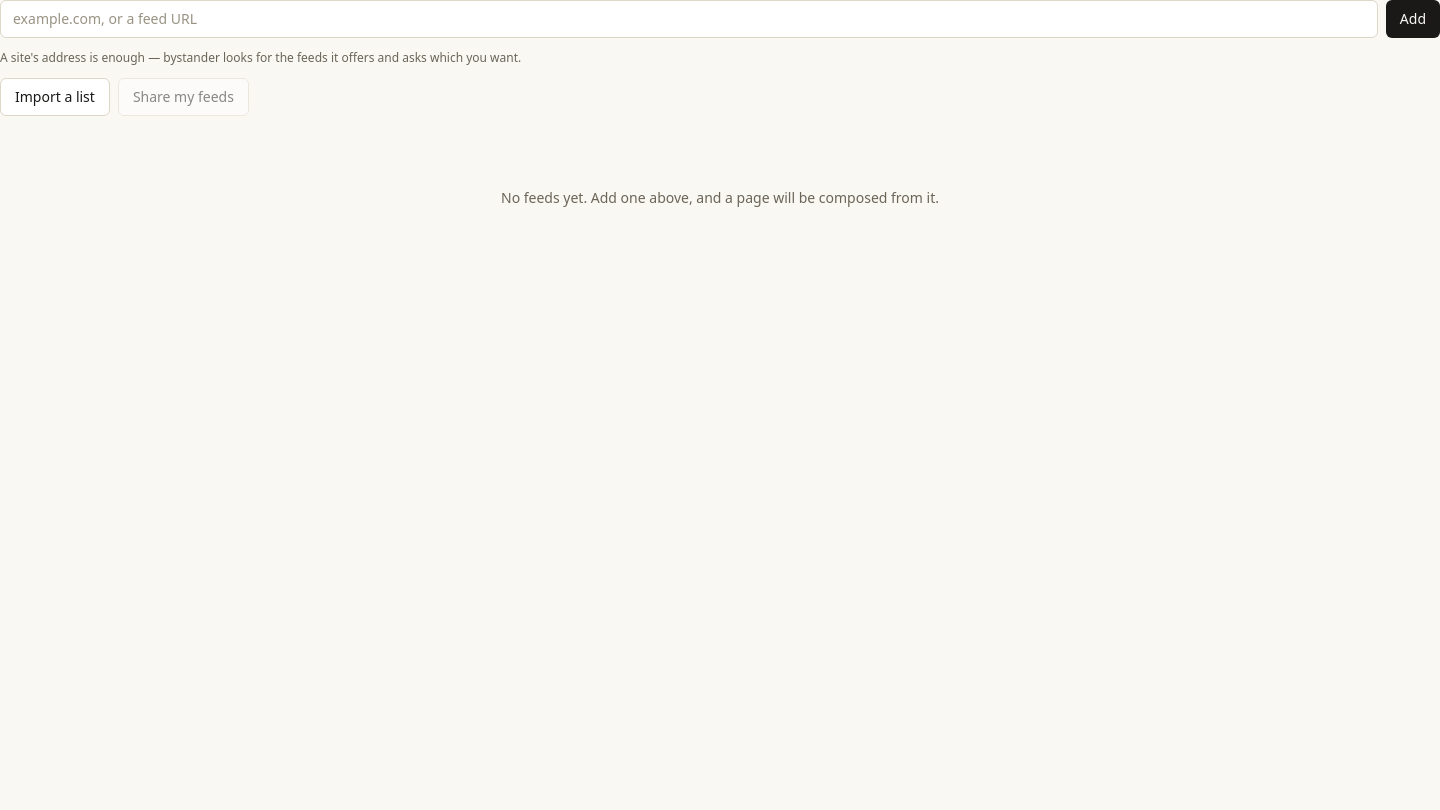
Test: FeedsPage, before following anything › shows one discovered feed rather than subscribing to it
Type "example.com" into the field named "Feed or site address" at (689, 19), box [0, 0, 1378, 38]
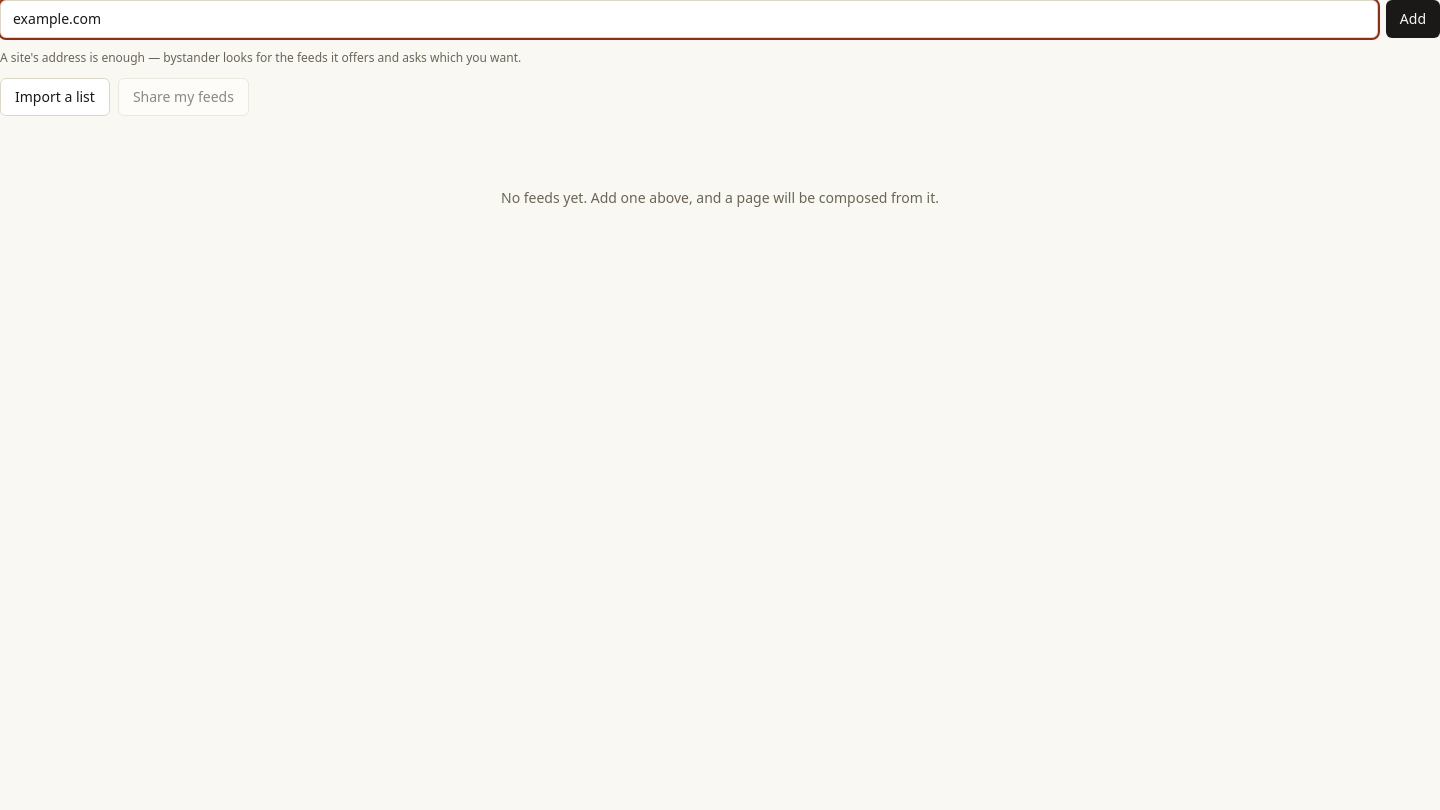
Click the button "Add" at (1413, 19), box [1386, 0, 1439, 38]
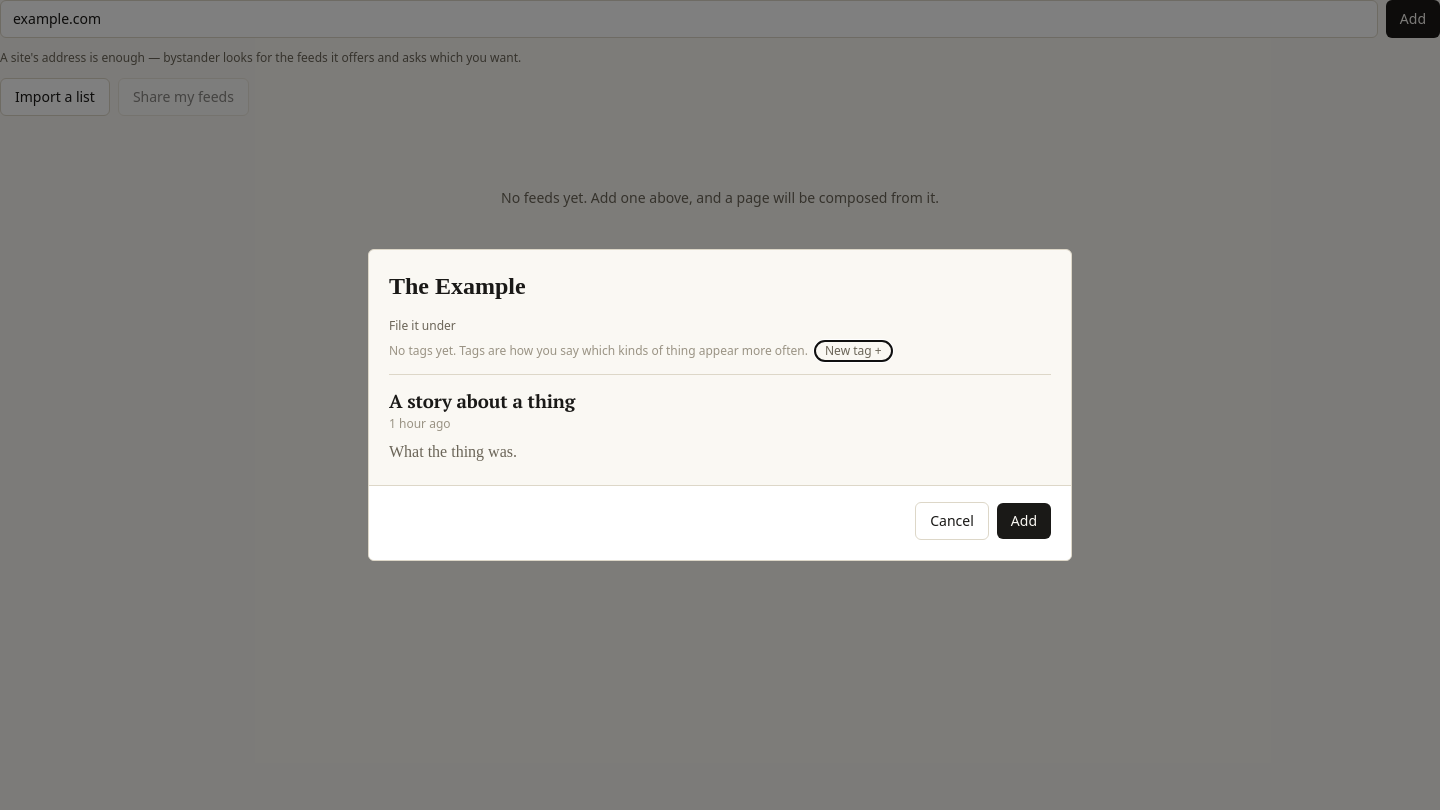
Expected: the link "A story about a thing" is shown, [389, 391, 575, 413]
Expected: the text "What the thing was." is shown, [389, 443, 517, 460]
